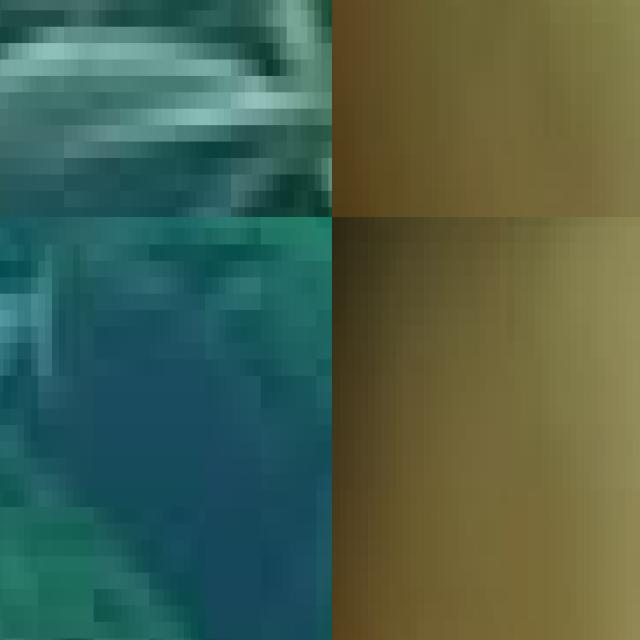fish: (0, 0, 332, 217)
